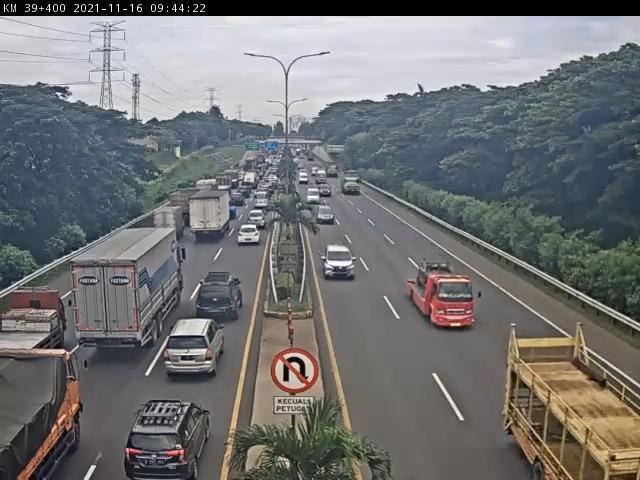car: (128, 399, 206, 477), (159, 326, 221, 386), (196, 277, 243, 325), (328, 245, 356, 277), (238, 228, 261, 247), (248, 213, 267, 230), (317, 206, 333, 225), (256, 193, 271, 210), (320, 184, 332, 199), (307, 191, 320, 204), (232, 194, 244, 204), (301, 172, 310, 184)
truck: (500, 320, 640, 480), (74, 227, 189, 356), (1, 347, 89, 480), (1, 287, 69, 354), (415, 262, 473, 333), (189, 190, 233, 244), (154, 209, 181, 239), (342, 174, 360, 196), (244, 173, 259, 189), (326, 164, 341, 179), (317, 170, 330, 184)
